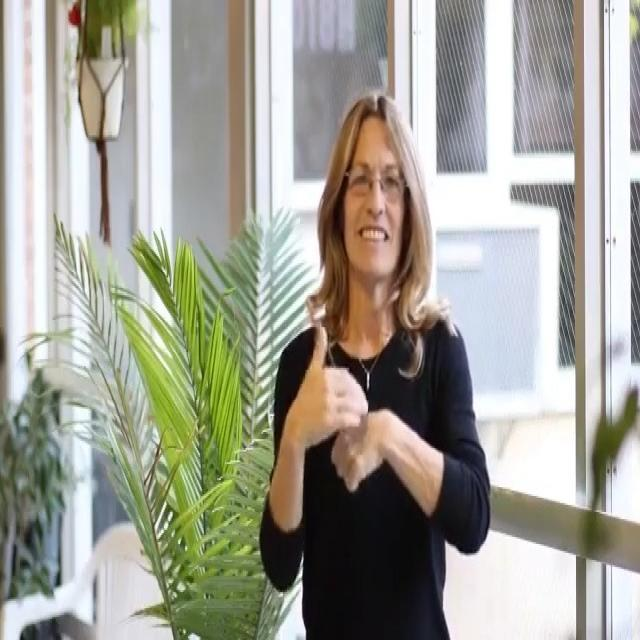bread: (280, 312, 424, 506)
